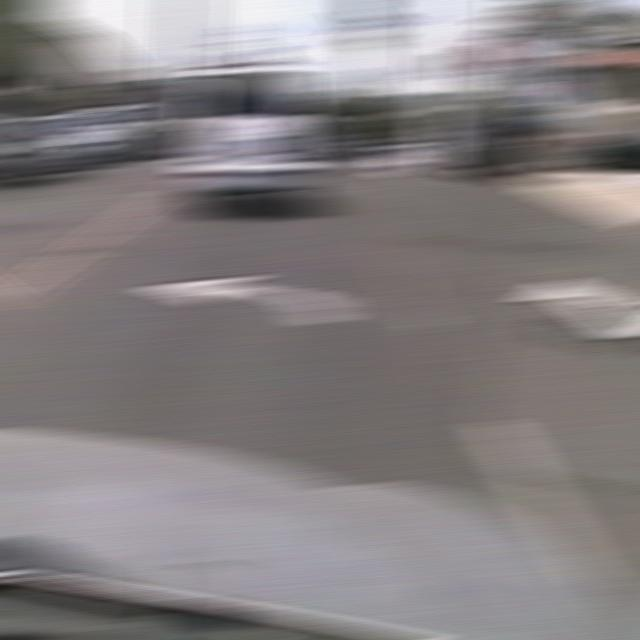stop_sign: (468, 39, 512, 69)
